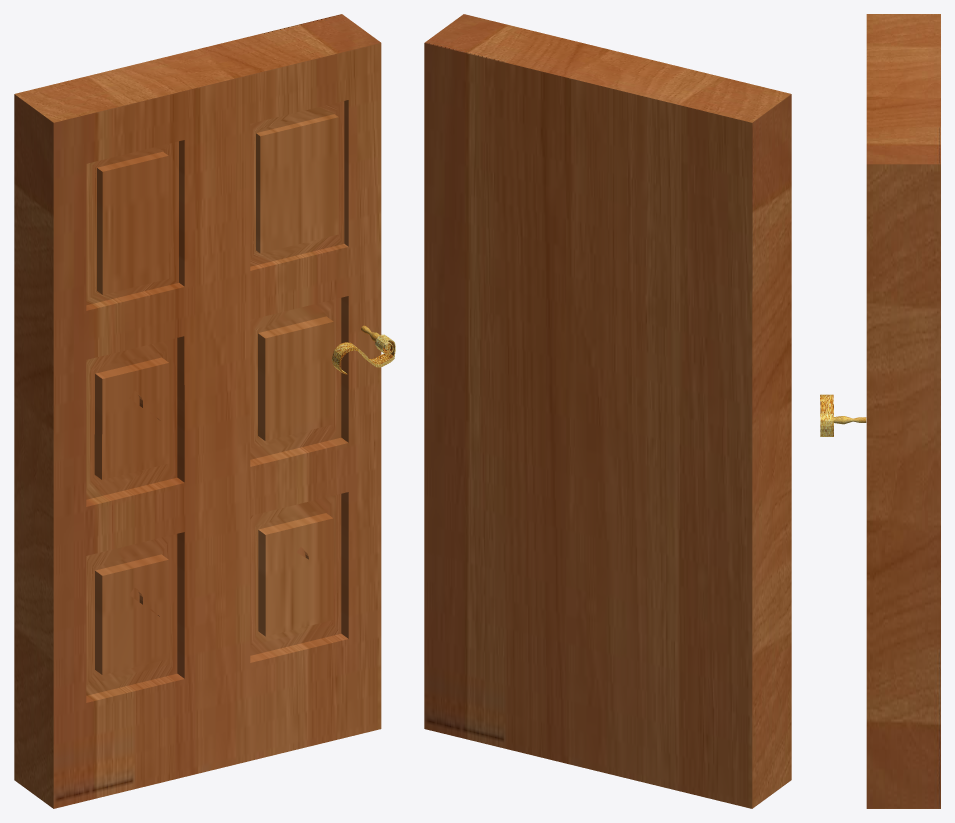
File: puerta.FBX
3 views of the same model, side by side, from view 1: azimuth 30°, elevation 25°; view 2: azimuth 150°, elevation 25°; view 3: azimuth 270°, elevation 25° (orthographic). The views are drawn at different scales.
Parts seen in each view (by area): view 1: Box001, Line002; view 2: Box001; view 3: Box001, Line002.
Boxes of the visible parts, box(x1,y1,x2,y2) form: Box001: box(14, 14, 381, 808); Line002: box(332, 334, 395, 374); Box001: box(424, 14, 791, 808); Box001: box(866, 14, 940, 808); Line002: box(820, 394, 833, 436).
Bounding box in the file's own units: 39.37 × 78.74 × 13.36.
